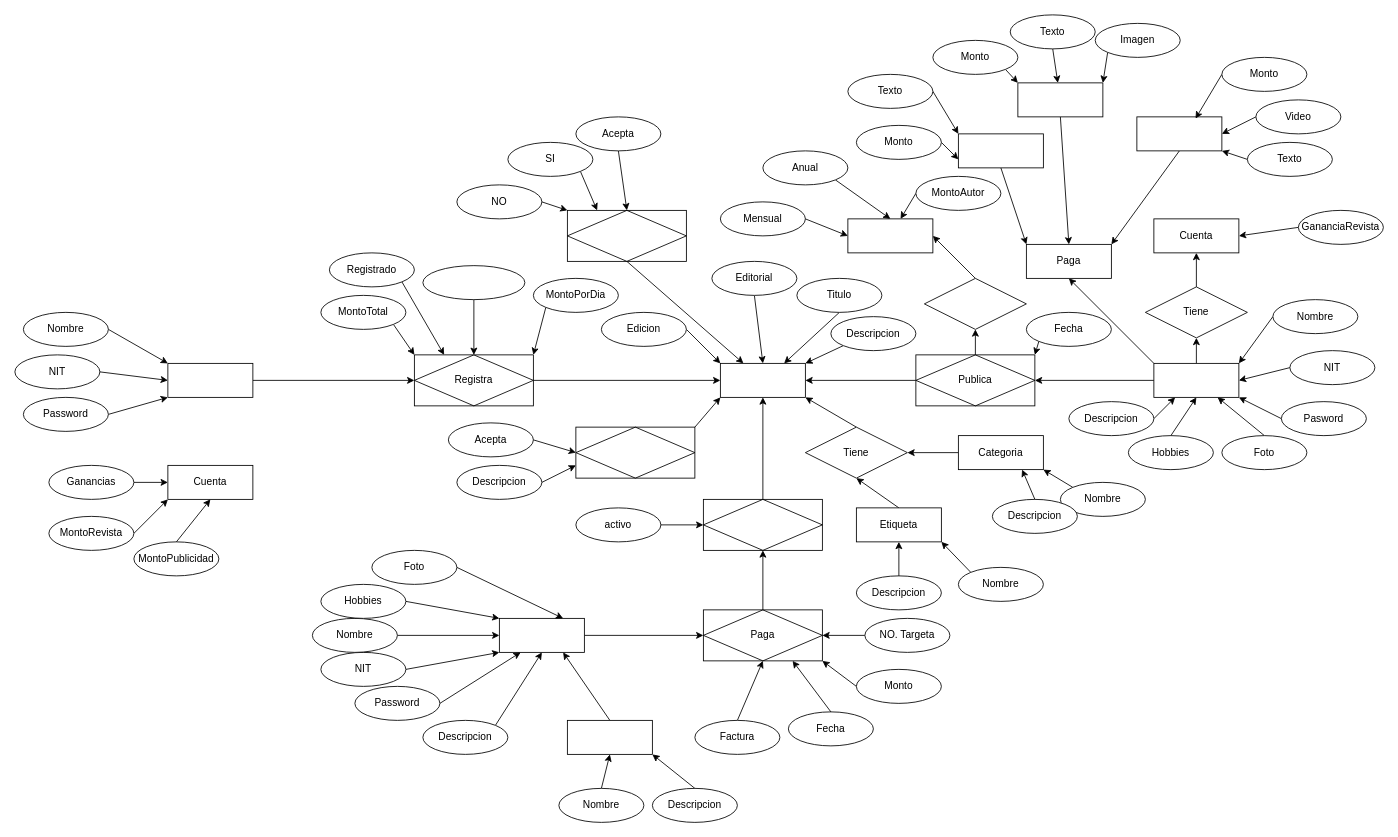
Image size: 1398x837. Some labels were removed from this diagram. Each missing label, with the box of its shape:
Administrador: (167, 363, 253, 397)
Anuncio1: (958, 133, 1043, 168)
Anuncio2: (1017, 82, 1103, 117)
Anuncio3: (1136, 116, 1222, 151)
Autor: (1153, 363, 1239, 397)
Comentario: (575, 426, 695, 478)
Define: (924, 278, 1026, 329)
FechaCambioCosoto: (422, 265, 525, 300)
Gustos: (567, 720, 652, 754)
MeGusta: (567, 210, 686, 261)
Revista: (720, 363, 805, 397)
Subscribe: (703, 499, 822, 550)
Subscriptor: (499, 618, 584, 652)
TipoPago: (847, 218, 933, 253)
